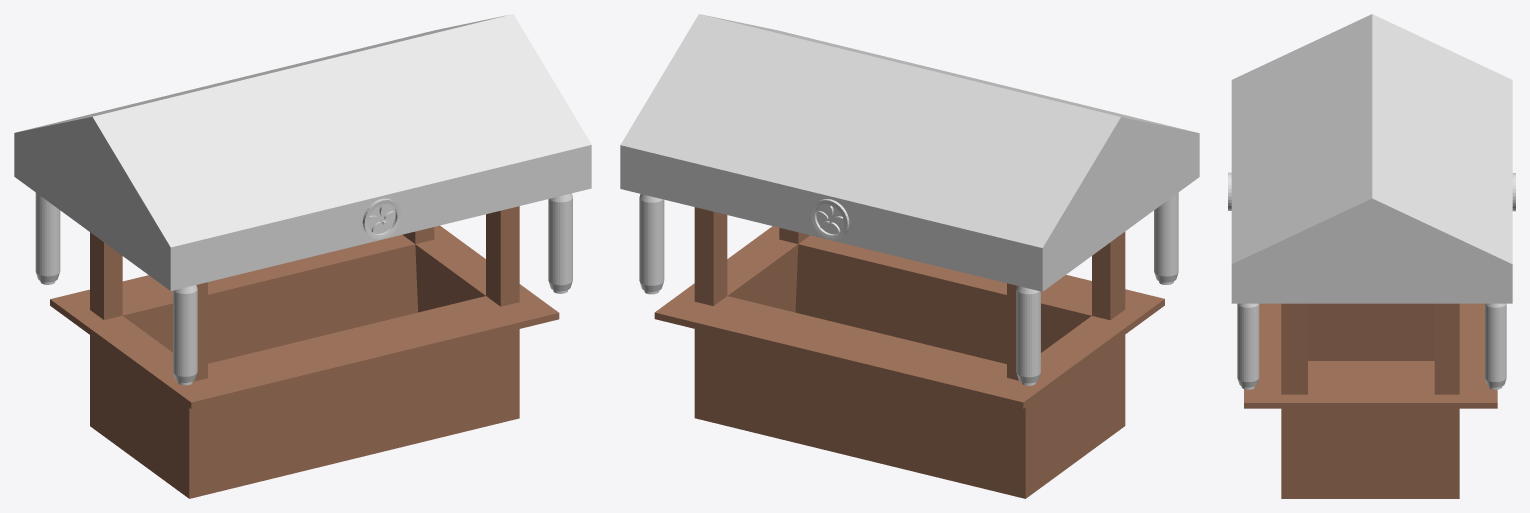
File: Stall.fbx
The picture shows the model from 3 angles, left to right: view 1: azimuth 30°, elevation 25°; view 2: azimuth 150°, elevation 25°; view 3: azimuth 270°, elevation 25°; orthographic projection. The views are drawn at different scales.
Parts seen in each view (by area): view 1: Stall; view 2: Stall; view 3: Stall.
Part boxes in pixels (x1=…): Stall: x1=14, y1=14, x2=591, y2=498; Stall: x1=620, y1=14, x2=1199, y2=498; Stall: x1=1228, y1=14, x2=1515, y2=498.
Bounding box in the file's own units: 561 × 454 × 370.
